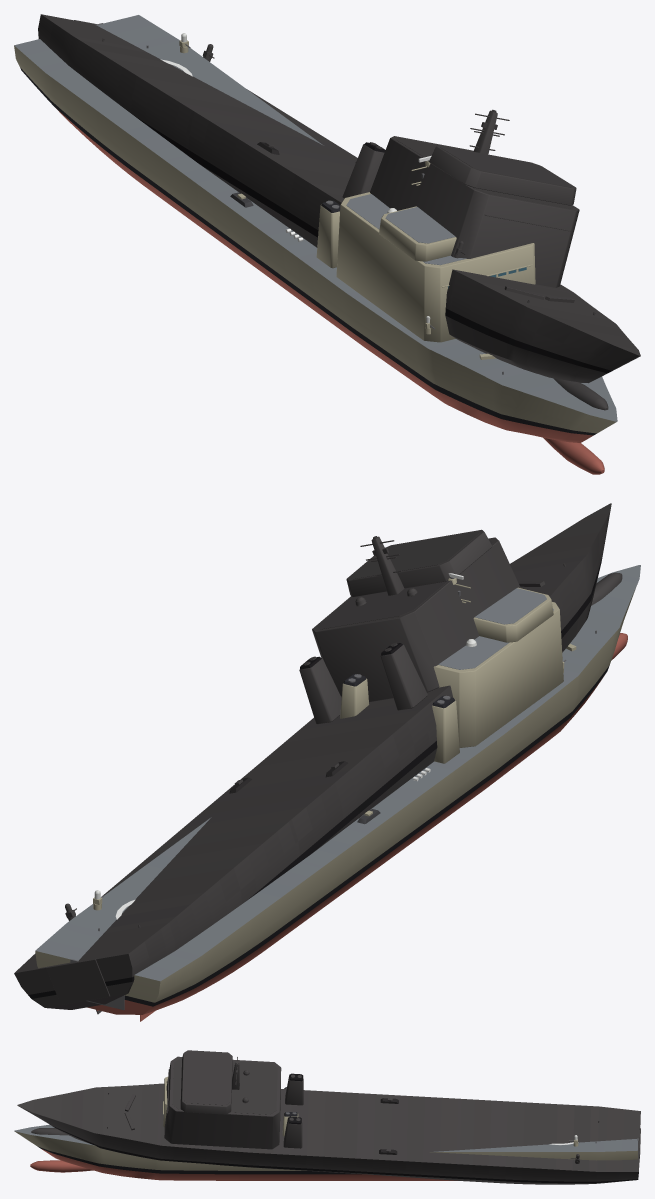
File: landingShip__bay_class.glb
3 renders of one model, top to bottom at view 1: azimuth 30°, elevation 25°; view 2: azimuth 150°, elevation 25°; view 3: azimuth 270°, elevation 25°, orthographic. The views are drawn at different scales.
Parts seen in each view (by area): view 1: Wreck, Hull_Mesh; view 2: Wreck, Hull_Mesh; view 3: Wreck, Hull_Mesh.
Part boxes in pixels (box(x1,y1,x2,y2)): Wreck: box(38, 14, 640, 410); Hull_Mesh: box(14, 15, 617, 474); Wreck: box(14, 503, 622, 1014); Hull_Mesh: box(35, 565, 640, 1021); Wreck: box(17, 1050, 640, 1184); Hull_Mesh: box(14, 1076, 638, 1180).
Size of what is drawn, in the model's own units: 34.59 by 42.62 by 185.
